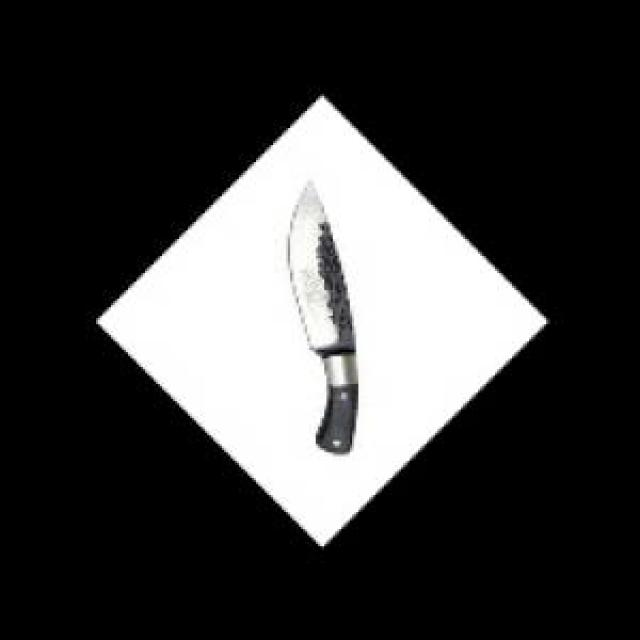knife: (281, 177, 366, 465)
